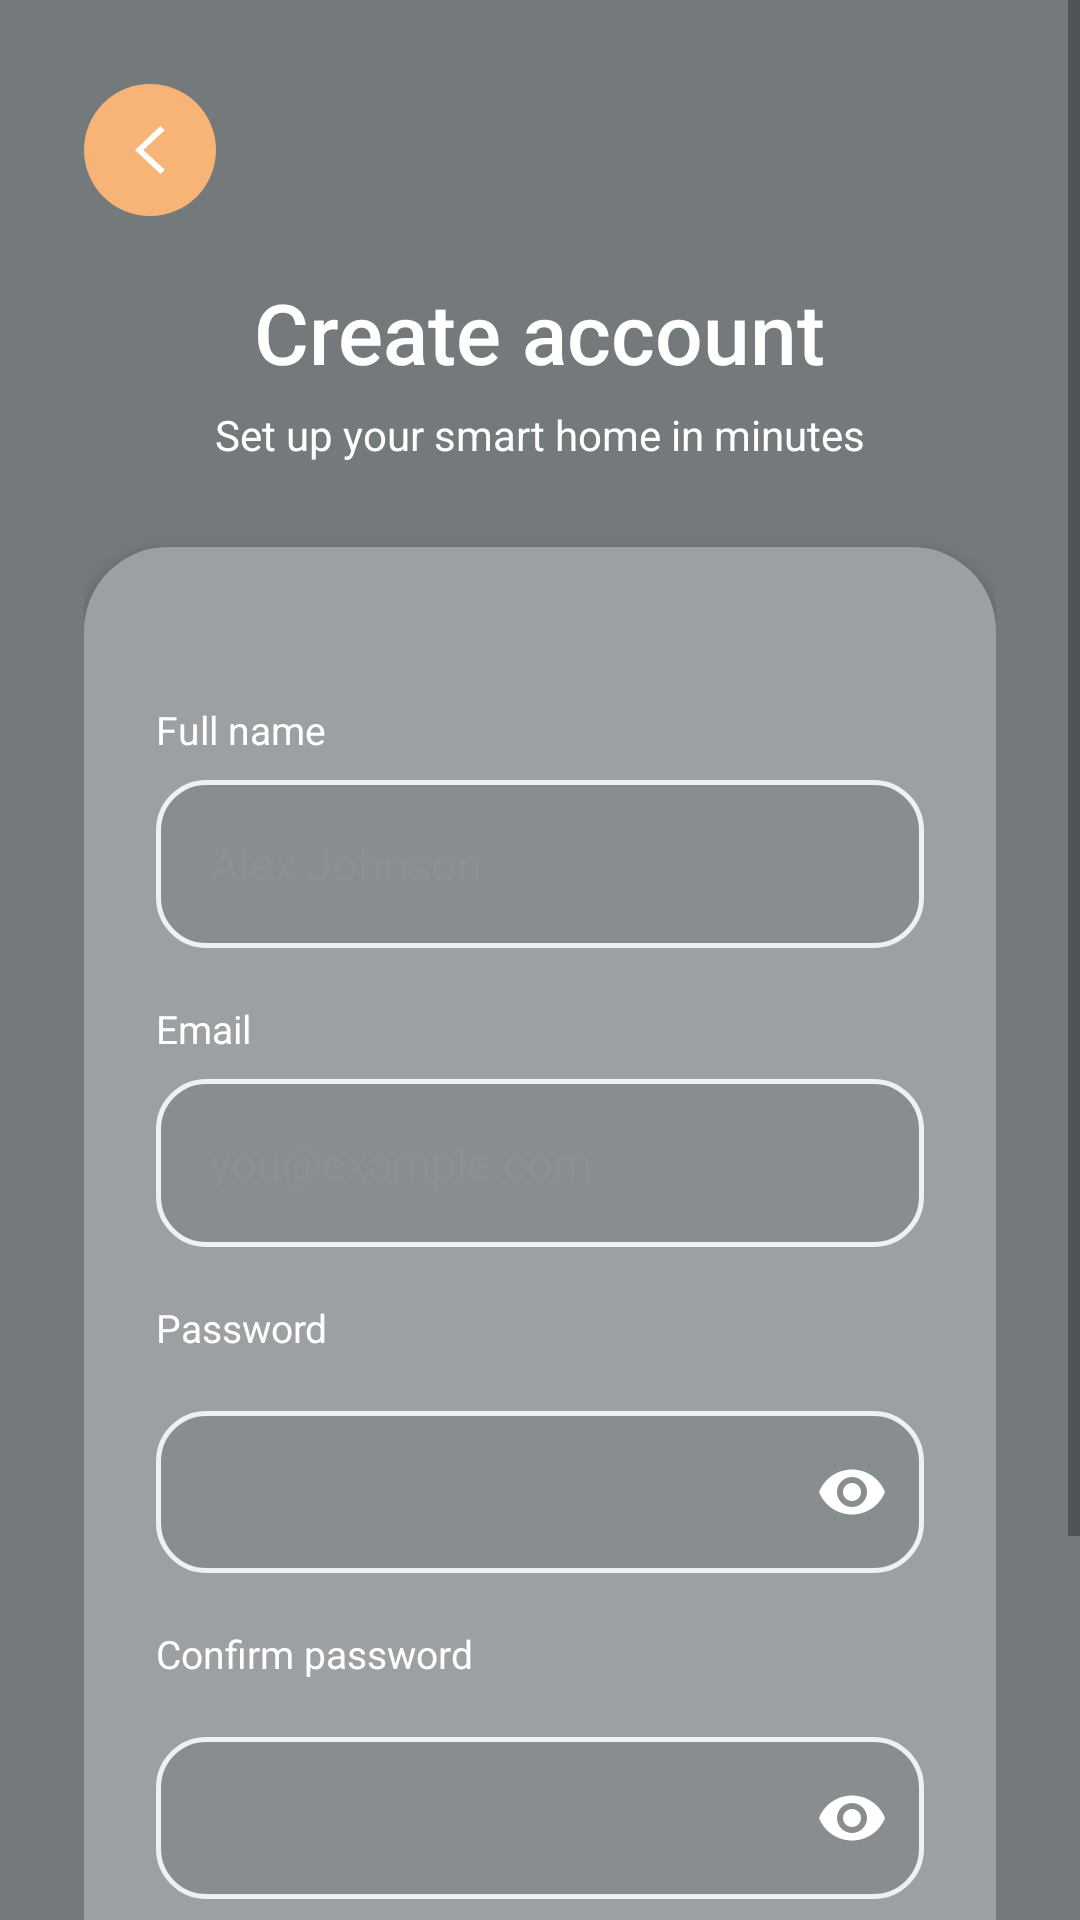

Locate icon controls on the screen. Image size 1080 x 1920, boxes as (x1,y1,x2,y2).
Back: (135,126,165,174)
